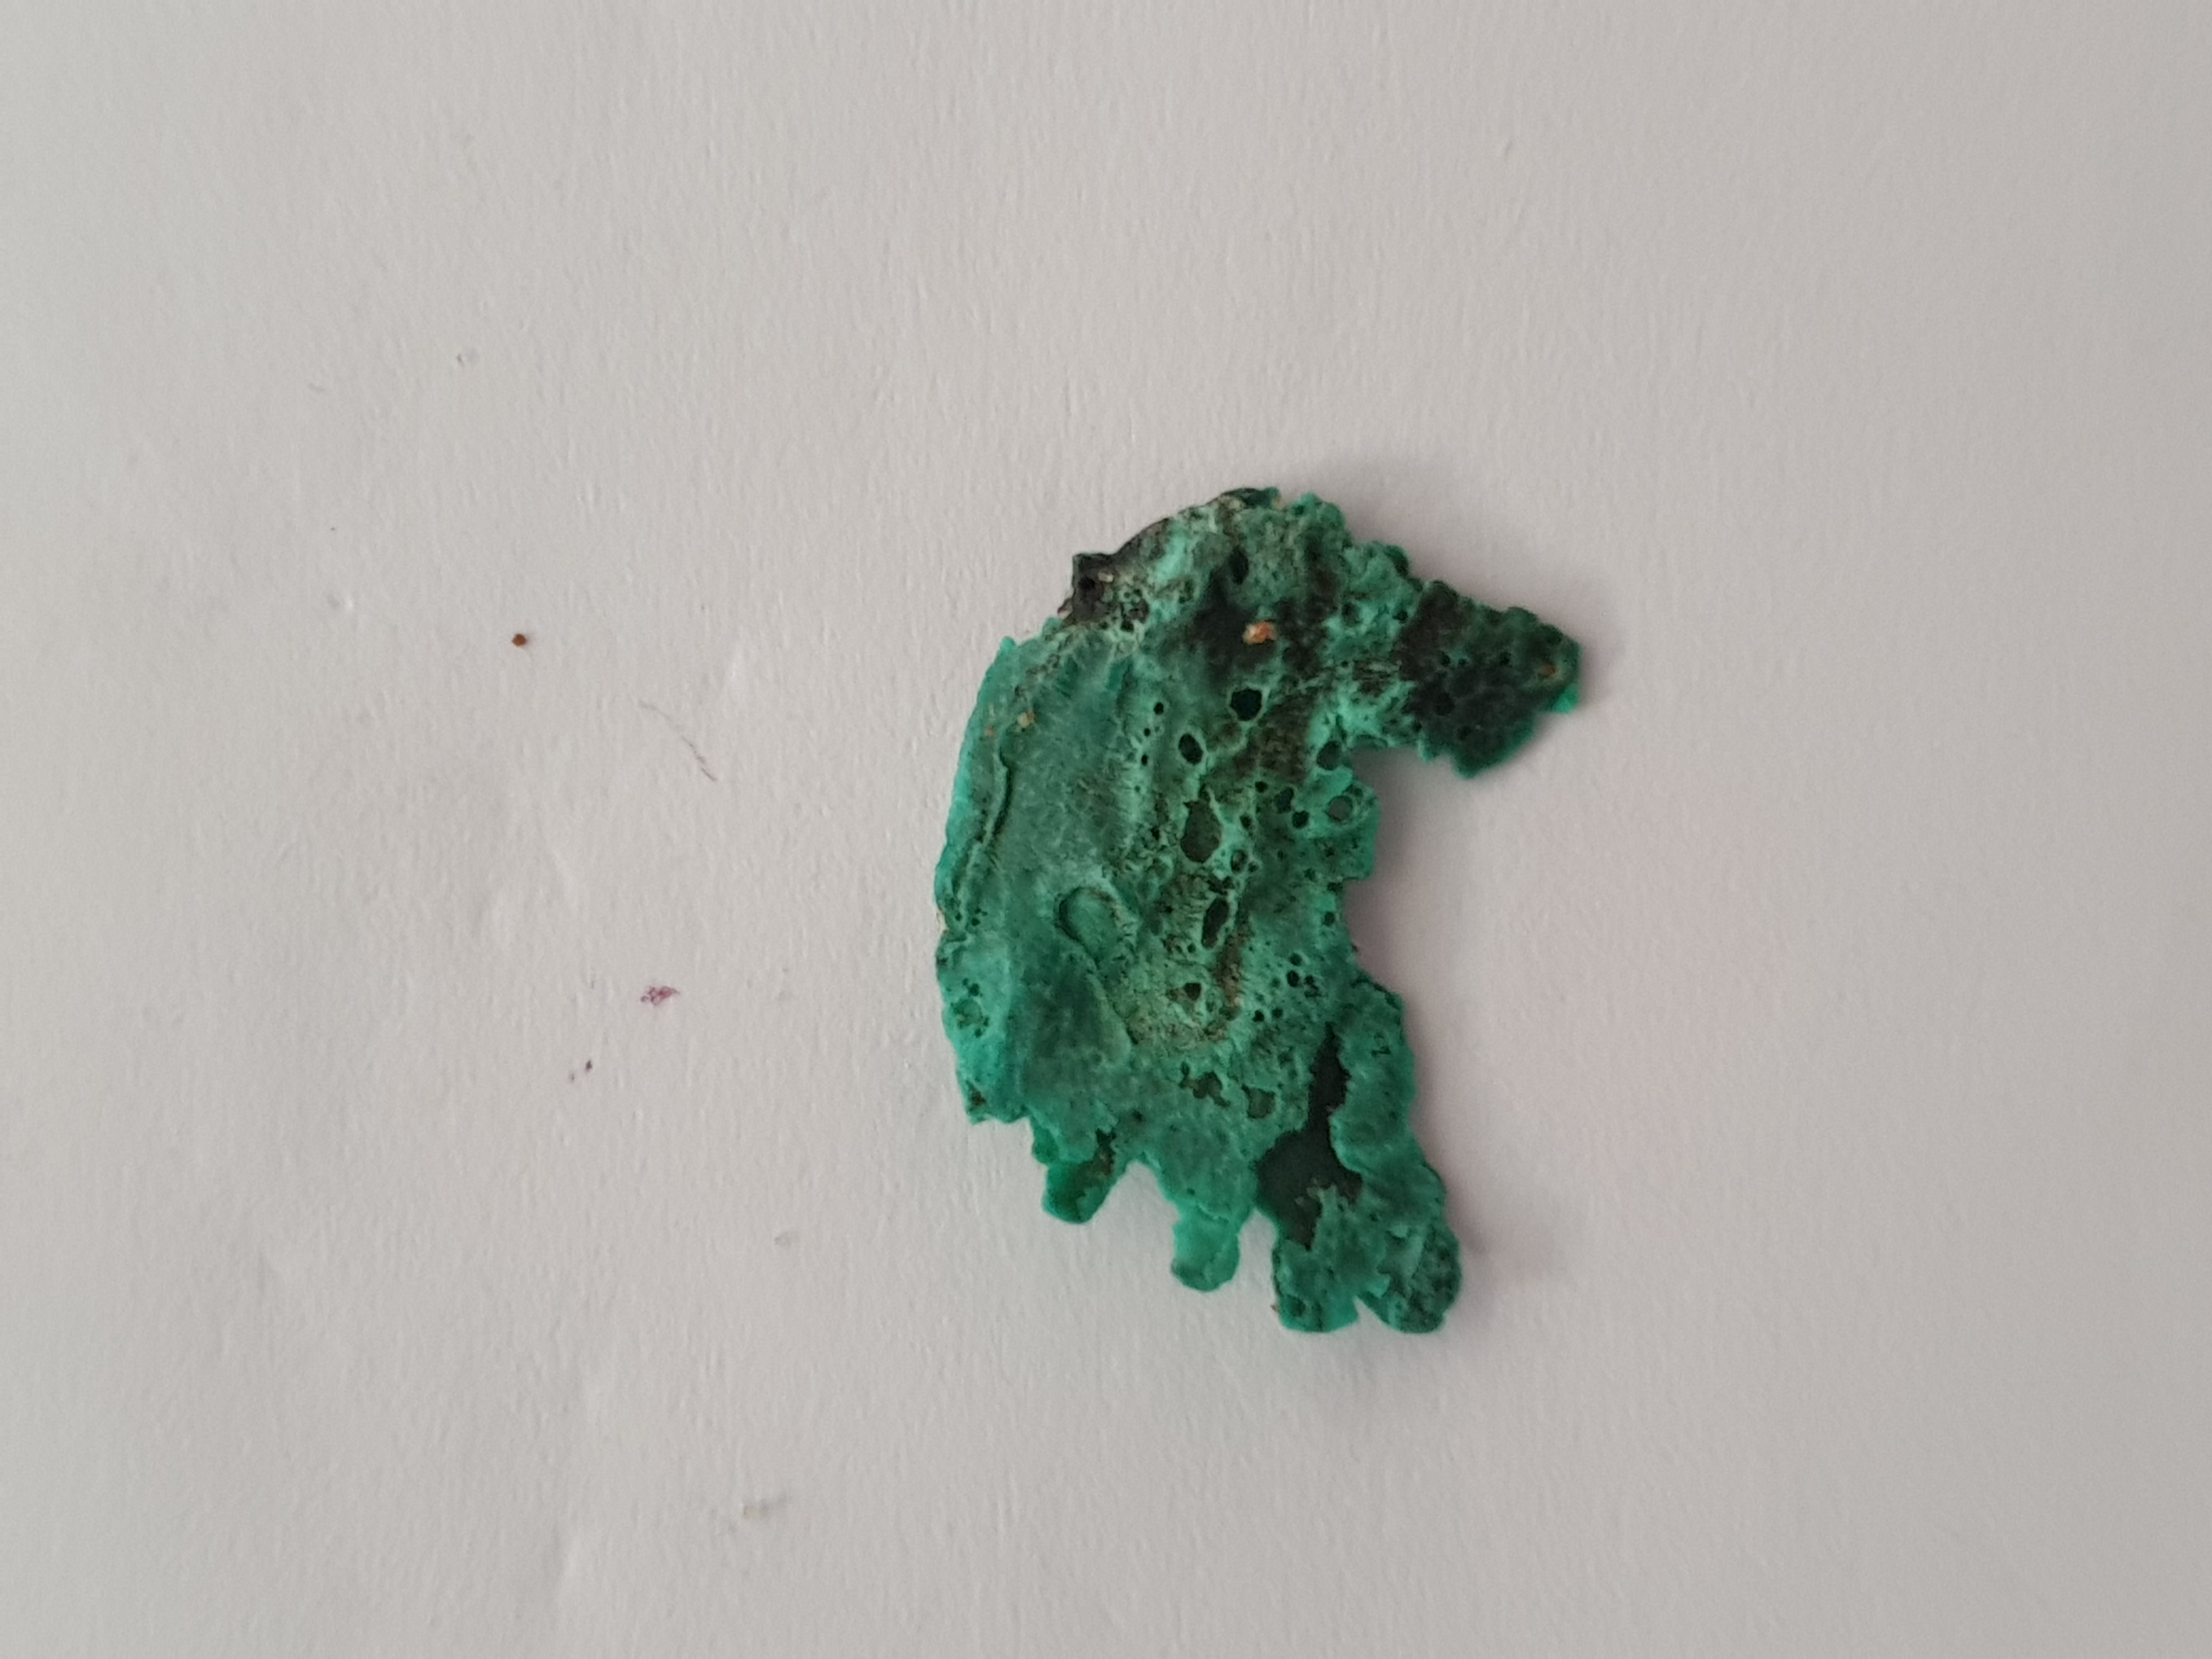plastic: (902, 469, 1611, 1354)
